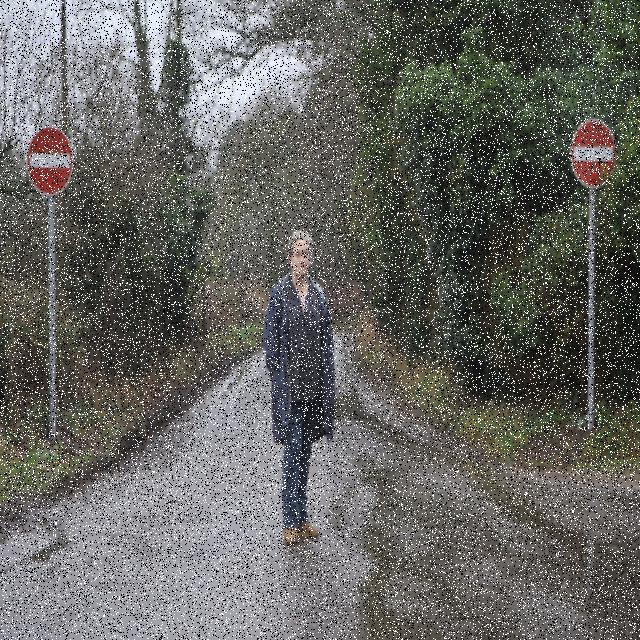no entry: (27, 125, 74, 196), (571, 119, 617, 190)
